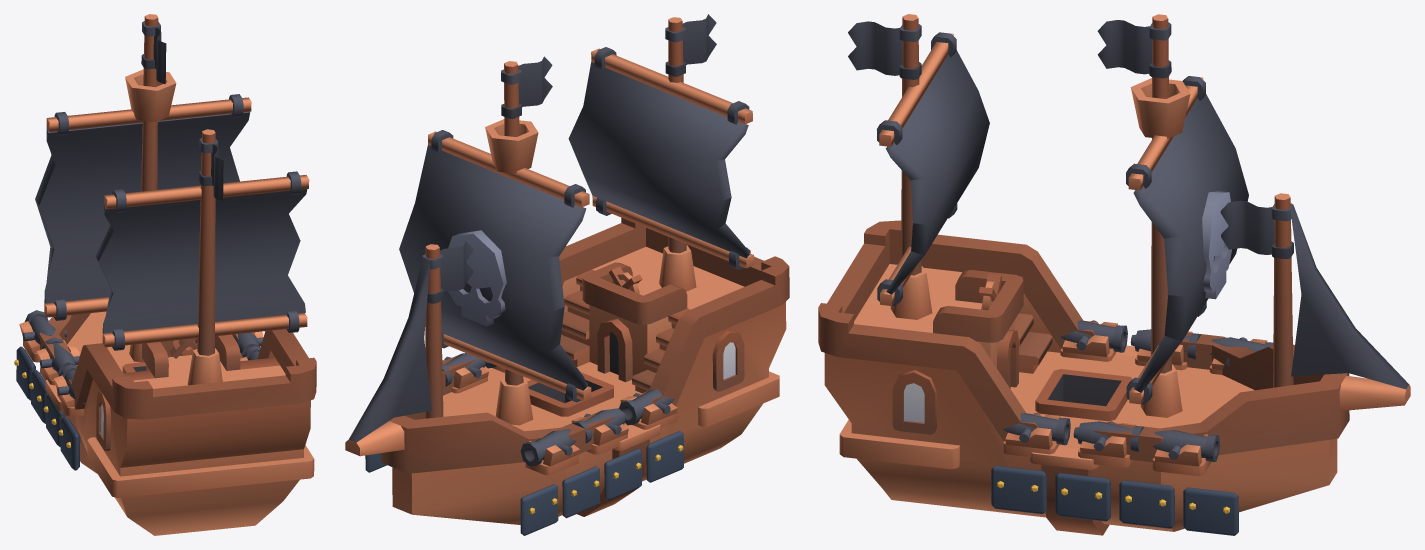
The model's file is ship-corsair.glb.
3 views of the same model, side by side, from view 1: azimuth 30°, elevation 25°; view 2: azimuth 150°, elevation 25°; view 3: azimuth 270°, elevation 25° (orthographic). The views are drawn at different scales.
Visible parts, largest first — view 1: Hull + rigging.002, sail-b.004, sail-a.007, flag-c.007, flag-b.004, Cannon slot 1 0.002, Cannon slot 1 1.002, Armor • removable plate.015, Armor • removable plate.012, Armor • removable plate.013, Cannon slot 1 2.001, Armor • removable plate.014 (+1 smaller); view 2: Hull + rigging.002, sail-a.007, sail-b.004, flag-c.007, flag-b.004, flag-a.004, Cannon slot 1 0.002, Armor • removable plate.012, Armor • removable plate.013, Armor • removable plate.014, Armor • removable plate.015, Cannon slot 1 2.001 (+2 smaller); view 3: Hull + rigging.002, sail-a.007, sail-b.004, flag-b.004, flag-c.007, flag-a.004, Armor • removable plate.010, Armor • removable plate.011, Armor • removable plate.008, Armor • removable plate.009, Cannon slot -1 0.002, Cannon slot -1 2.001 (+3 smaller).
Part boxes in pixels (bbox=[...]): Hull + rigging.002: bbox=[39, 14, 316, 535]; sail-b.004: bbox=[95, 171, 309, 350]; sail-a.007: bbox=[35, 94, 251, 320]; flag-c.007: bbox=[198, 138, 223, 200]; flag-b.004: bbox=[141, 21, 166, 84]; Cannon slot 1 0.002: bbox=[22, 310, 66, 362]; Cannon slot 1 1.002: bbox=[40, 337, 79, 385]; Armor • removable plate.015: bbox=[60, 416, 80, 470]; Armor • removable plate.012: bbox=[16, 346, 35, 400]; Armor • removable plate.013: bbox=[31, 370, 48, 423]; Cannon slot 1 2.001: bbox=[57, 364, 85, 416]; Armor • removable plate.014: bbox=[46, 394, 62, 447]; Hull + rigging.002: bbox=[345, 17, 789, 524]; sail-a.007: bbox=[399, 130, 591, 402]; sail-b.004: bbox=[568, 47, 754, 269]; flag-c.007: bbox=[665, 14, 716, 76]; flag-b.004: bbox=[501, 56, 552, 118]; flag-a.004: bbox=[422, 241, 473, 303]; Cannon slot 1 0.002: bbox=[520, 429, 578, 475]; Armor • removable plate.012: bbox=[520, 484, 558, 535]; Armor • removable plate.013: bbox=[562, 466, 600, 518]; Armor • removable plate.014: bbox=[604, 448, 641, 500]; Armor • removable plate.015: bbox=[646, 431, 683, 482]; Cannon slot 1 2.001: bbox=[619, 389, 676, 429]; Hull + rigging.002: bbox=[818, 14, 1410, 535]; sail-a.007: bbox=[1126, 76, 1248, 404]; sail-b.004: bbox=[876, 32, 989, 306]; flag-b.004: bbox=[1097, 20, 1171, 78]; flag-c.007: bbox=[848, 21, 921, 79]; flag-a.004: bbox=[1220, 200, 1293, 259]; Armor • removable plate.010: bbox=[1055, 473, 1110, 521]; Armor • removable plate.011: bbox=[991, 465, 1046, 514]; Armor • removable plate.008: bbox=[1183, 487, 1238, 535]; Armor • removable plate.009: bbox=[1119, 480, 1174, 528]; Cannon slot -1 0.002: bbox=[1152, 430, 1219, 476]; Cannon slot -1 2.001: bbox=[1003, 413, 1070, 457].
Bounding box in the file's own units: 6.31 × 9.98 × 10.74.
4 materials, 2 textured.
